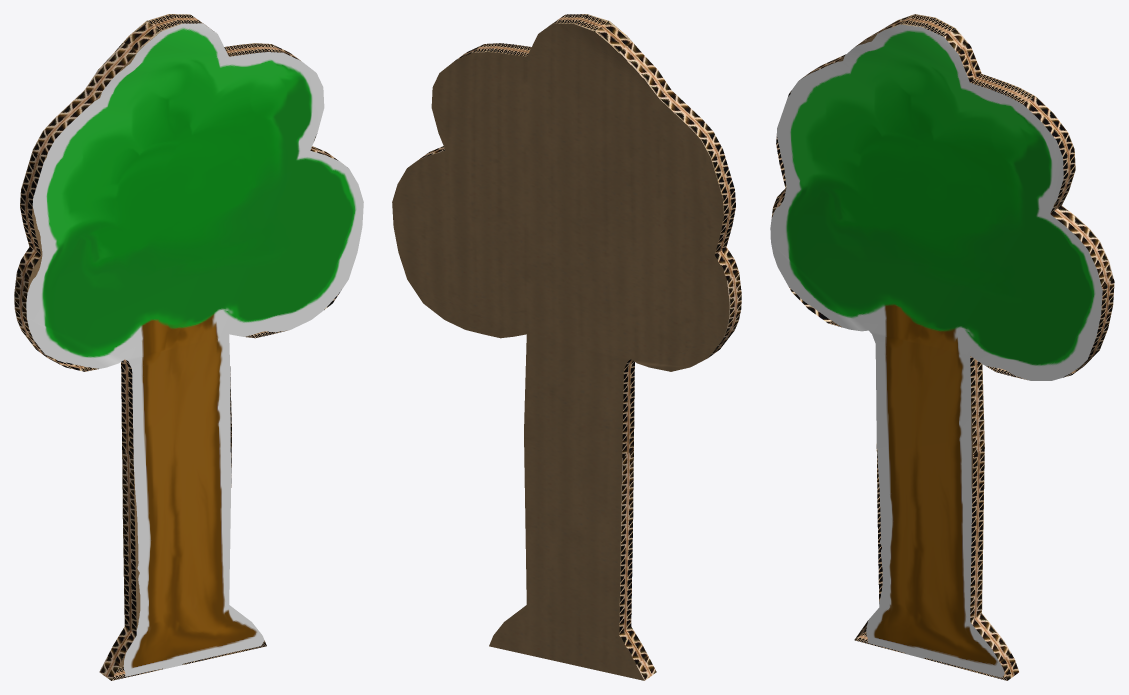
The model's file is tree01.fbx.
3 views of the same model, side by side, from view 1: azimuth 30°, elevation 25°; view 2: azimuth 150°, elevation 25°; view 3: azimuth 330°, elevation 25° (orthographic).
Parts seen in each view (by area): view 1: Line003; view 2: Line003; view 3: Line003.
Boxes of the visible parts, x1,y1,x2,y2 form: Line003: [14, 14, 363, 680]; Line003: [392, 14, 741, 680]; Line003: [770, 14, 1114, 680].
Size of the model in its own units: 26.34 by 48 by 1.98.
Materials: 3 (3 with a texture image).
